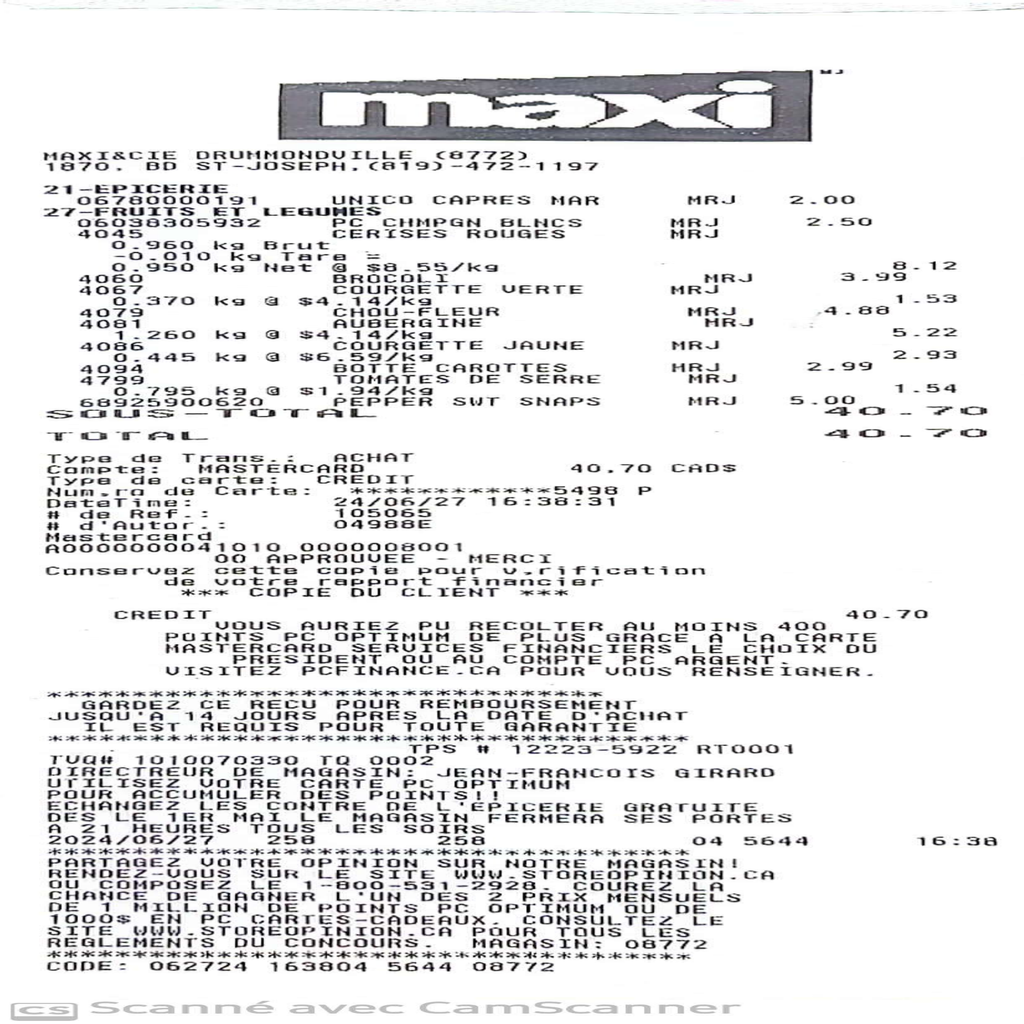recipt: (2, 2, 1016, 1018)
